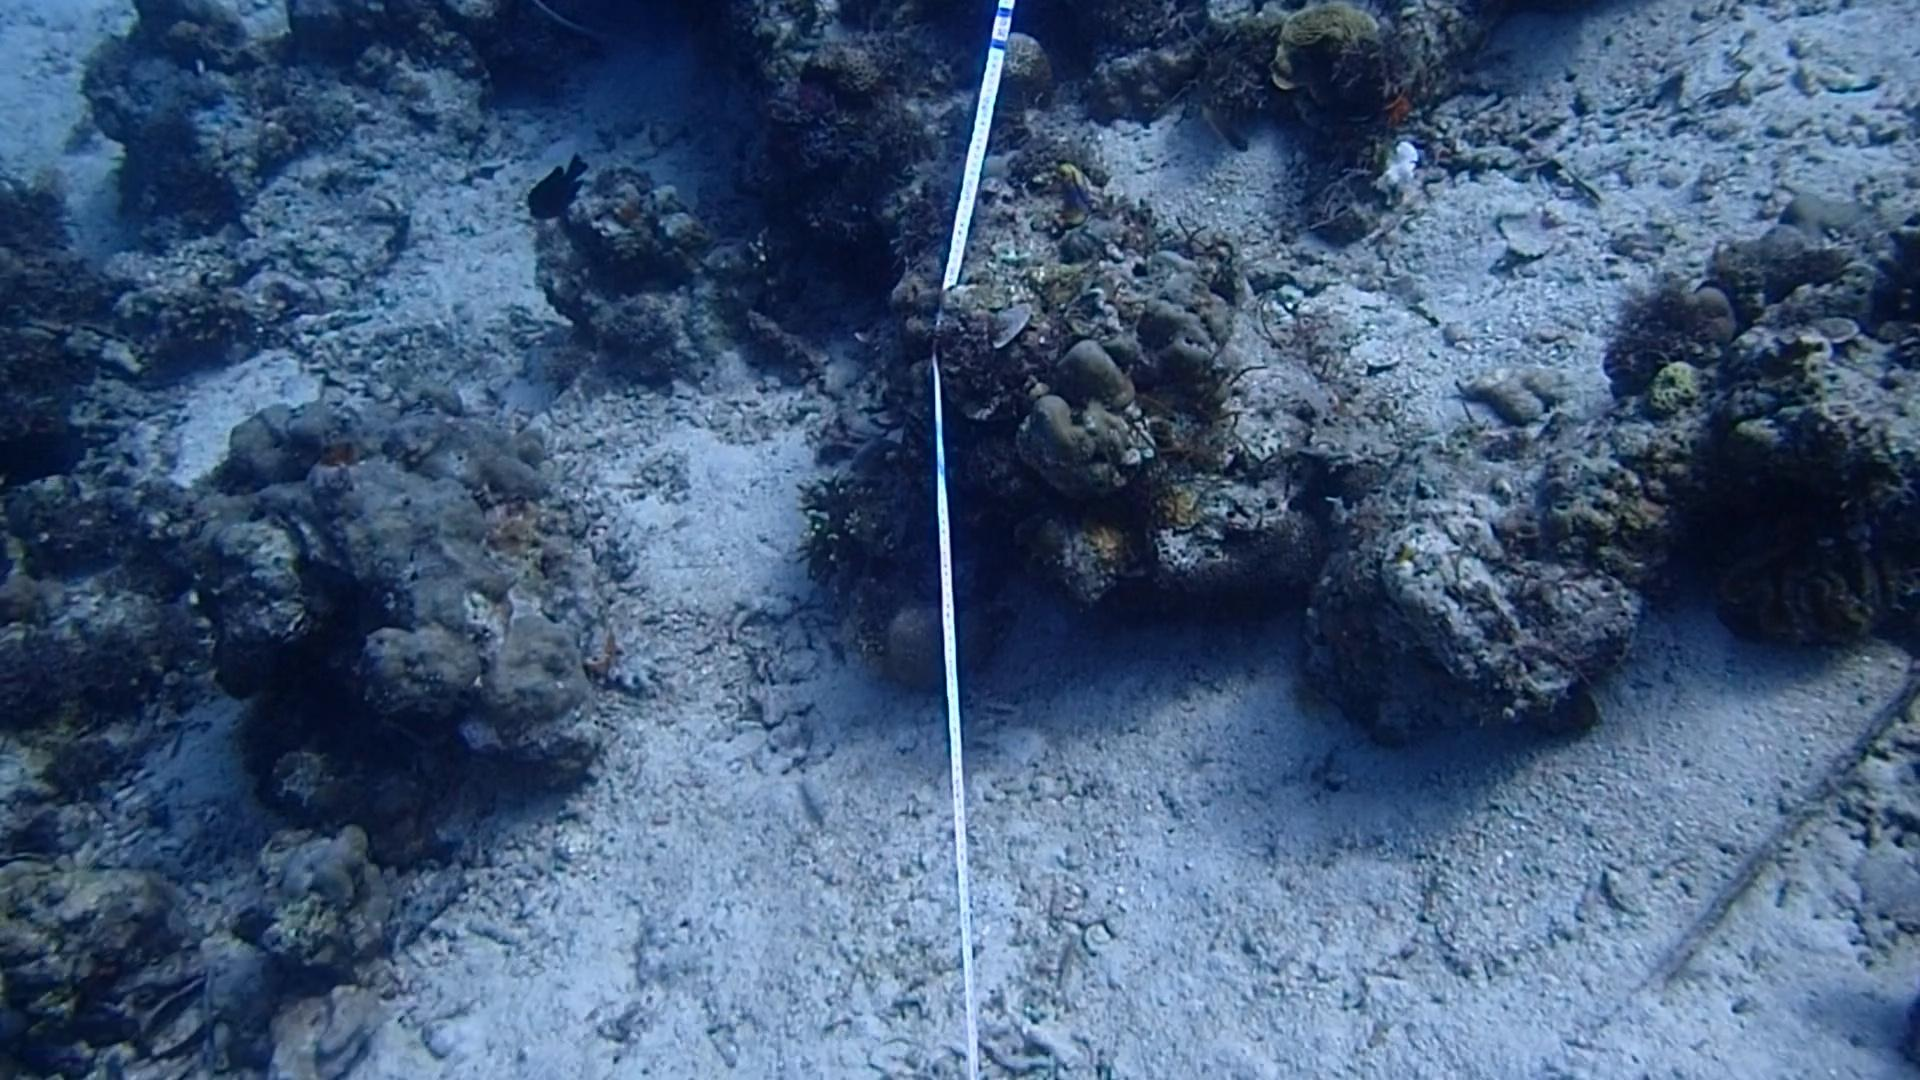Dark Fish: (520, 142, 593, 233), (0, 421, 83, 500)
Light Fish: (1197, 95, 1255, 165)
